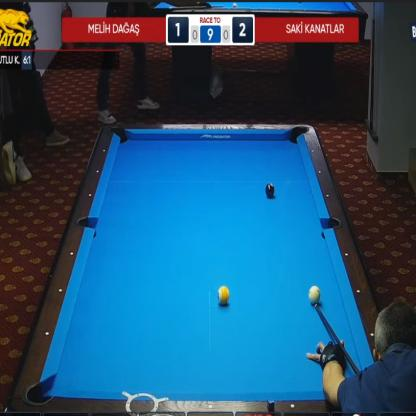Ball: (218, 285, 230, 305), (309, 286, 320, 306), (265, 182, 275, 198)
